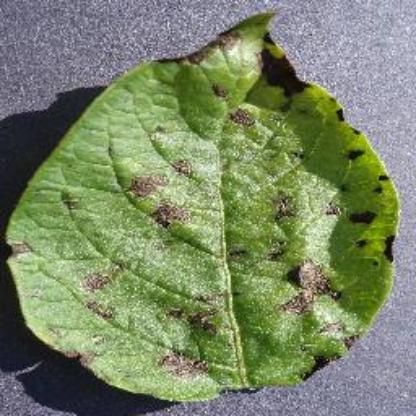Early-Blight: (5, 7, 405, 407)
